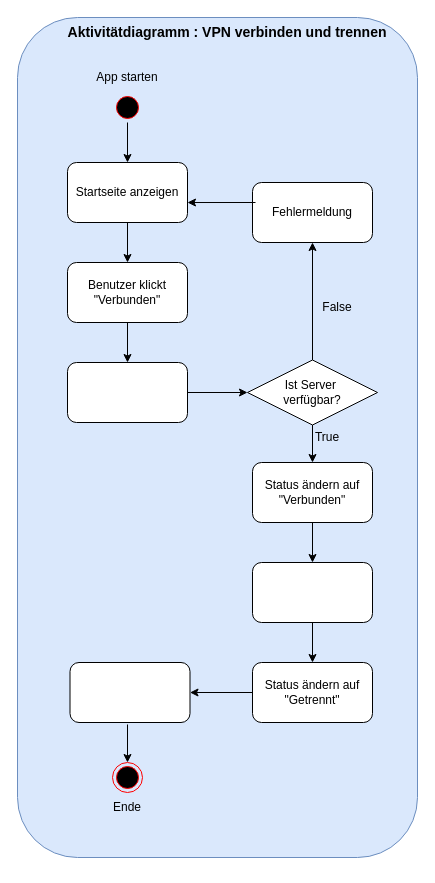
The diagram is 435 pixels wide and 883 high, and some of its shapes have lost their labels. Each missing label, with the box of its shape:
App bleibt offen oder wird beendet: (69, 662, 190, 722)
App prüft Server: (66, 362, 188, 422)
Benutzer klickt "Trennen": (252, 562, 372, 622)
